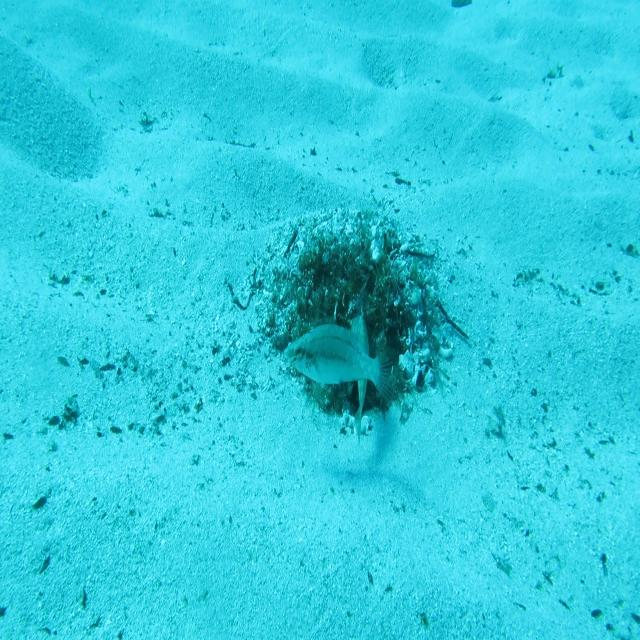FAN: (347, 304, 371, 448)
core_nest: (324, 257, 388, 305)
female: (282, 317, 402, 413)
nest: (246, 189, 460, 443)
vegetation: (450, 0, 474, 9)
